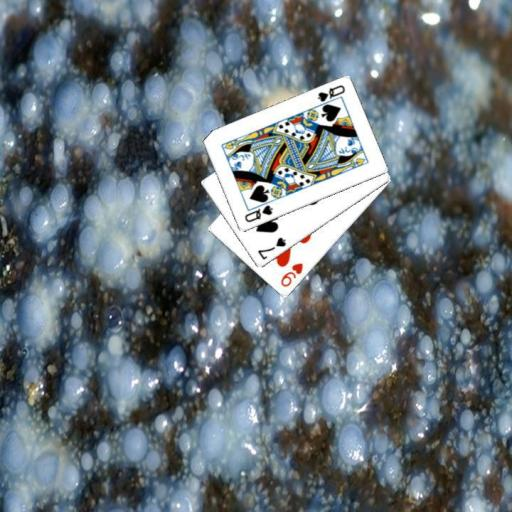7S: (255, 234, 287, 262)
9H: (278, 260, 305, 289)
QS: (241, 202, 275, 224), (315, 82, 347, 104)
